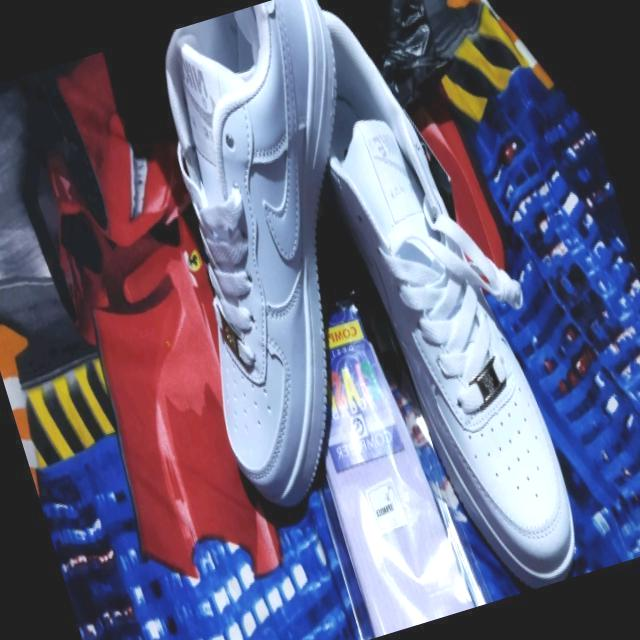nike_fake_airforce: (275, 0, 596, 612), (108, 0, 463, 524)
